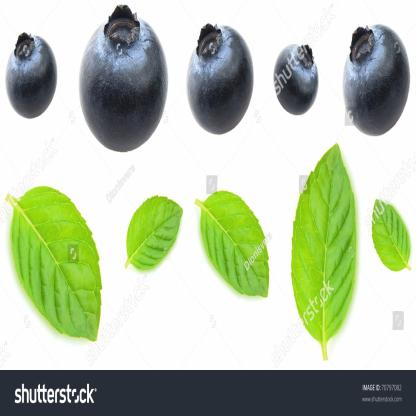blueberry leaf: (286, 130, 363, 363), (9, 182, 110, 353), (192, 184, 276, 314), (119, 186, 185, 291), (370, 191, 412, 296)
